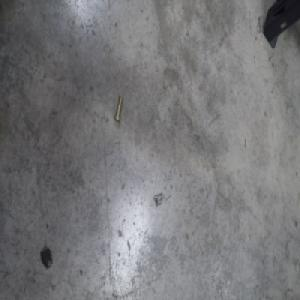Bolt: (113, 95, 123, 124)
